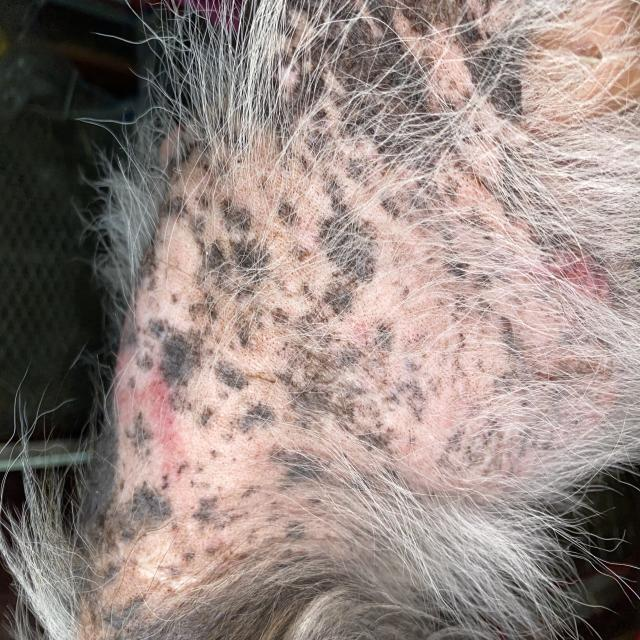demodicosis: (189, 150, 448, 468), (110, 341, 176, 550)
